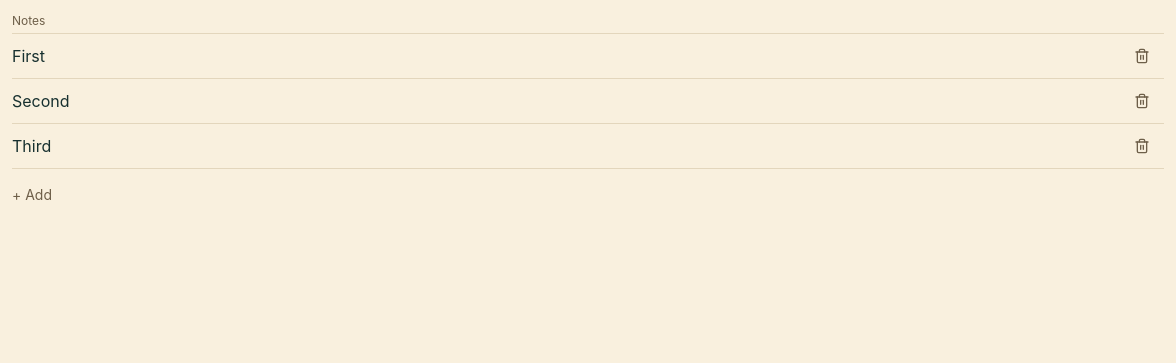
Test: NoteList › closes an open edit when another note is deleted, since the rows shift
Press the mouse on the button "Third" at x=32, y=146, box [12,124,1112,168]
Wait 500 ms
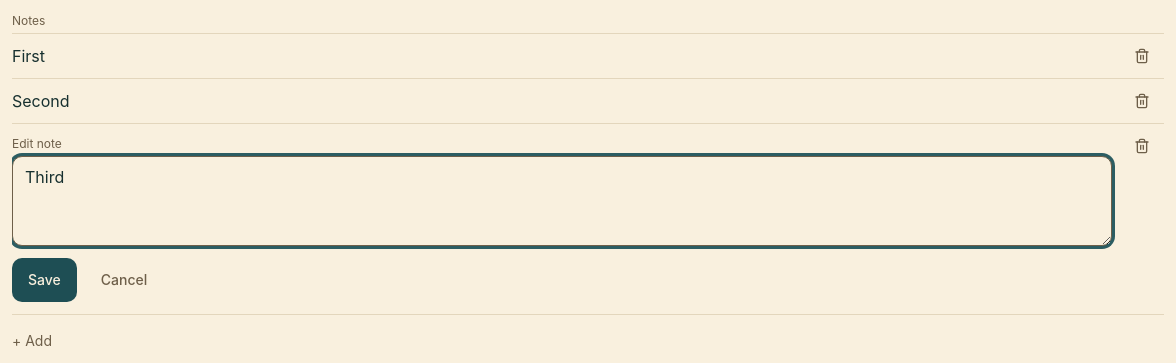
Click the button named "Remove note: First" at x=1142, y=56, box [1120,34,1164,78]
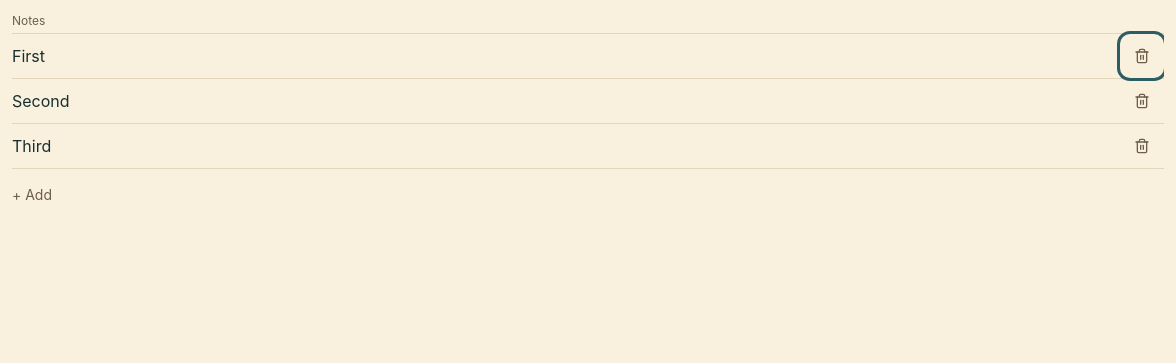
expect the label "Edit note" is gone: met
